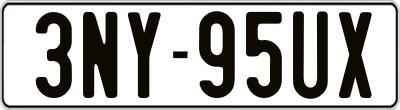3: (36, 12, 76, 103)
5: (243, 9, 285, 98)
9: (198, 10, 239, 101)
N: (83, 10, 117, 99)
U: (291, 8, 329, 100)
X: (336, 10, 370, 96)
Y: (125, 10, 162, 101)
